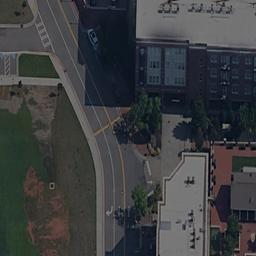Car: (85, 26, 100, 50)
Crosswalk: (34, 16, 55, 55)
Double Solid Yellow Line: (54, 1, 111, 124), (109, 127, 127, 256)
Right Turn Arrow: (105, 204, 114, 221)
Solid White Line: (43, 1, 102, 128), (102, 131, 115, 256)
